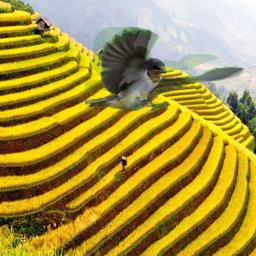Swallow: (85, 27, 244, 111)
